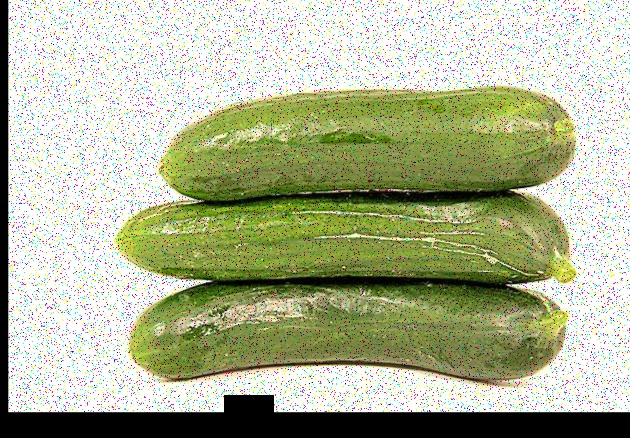cucumber: (163, 77, 576, 199), (129, 286, 571, 383), (112, 192, 567, 280)
